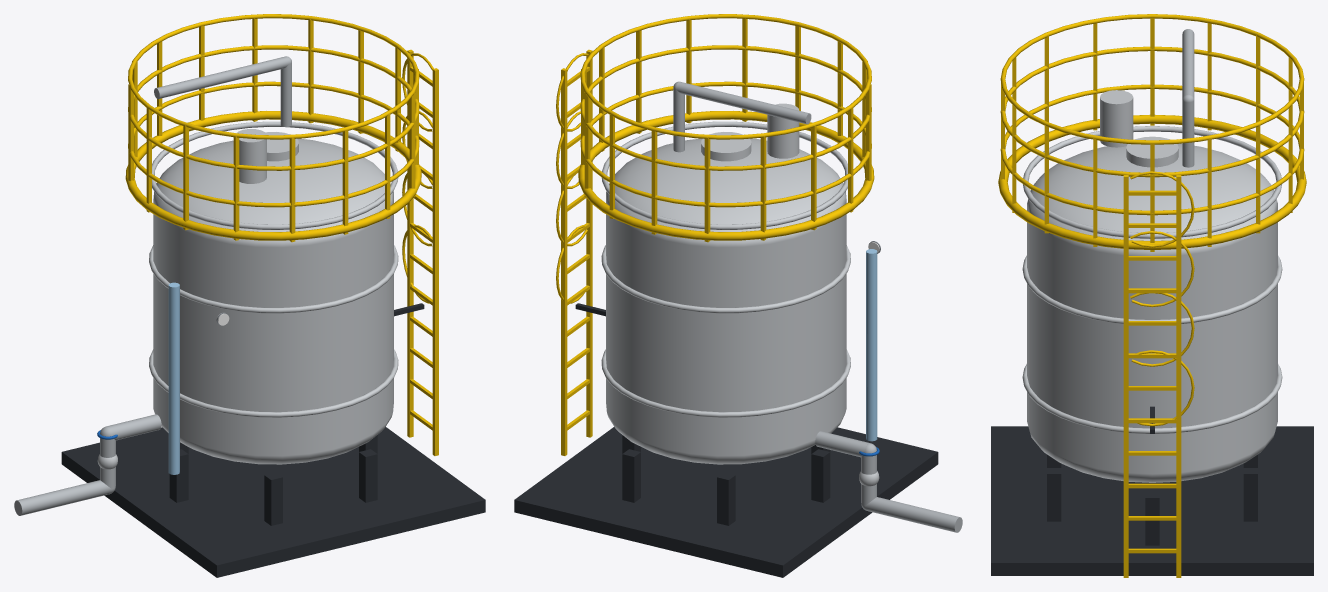
File: Feedwater tank.glb
3 renders of one model, left to right at view 1: azimuth 30°, elevation 25°; view 2: azimuth 150°, elevation 25°; view 3: azimuth 270°, elevation 25°, orthographic. The views are drawn at different scales.
Parts seen in each view (by area): view 1: Asset; view 2: Asset; view 3: Asset.
Boxes of the visible parts, bbox=[...] form: Asset: bbox=[14, 14, 485, 577]; Asset: bbox=[514, 14, 962, 577]; Asset: bbox=[991, 14, 1313, 577].
Size of the model in its own units: 3.97 by 3.97 by 2.7.
